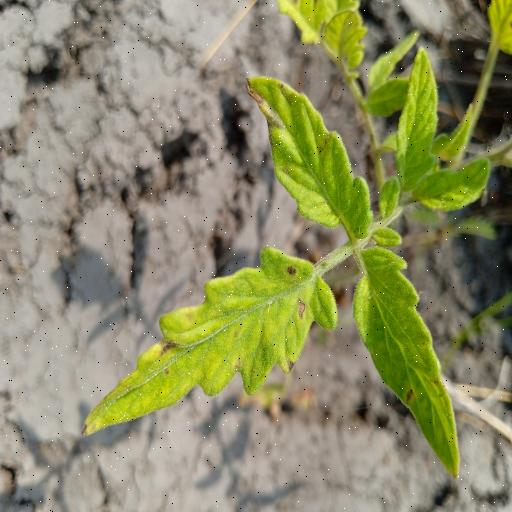Tomato_Brown_Spots: (78, 245, 340, 440), (352, 242, 466, 484), (240, 68, 374, 240)
